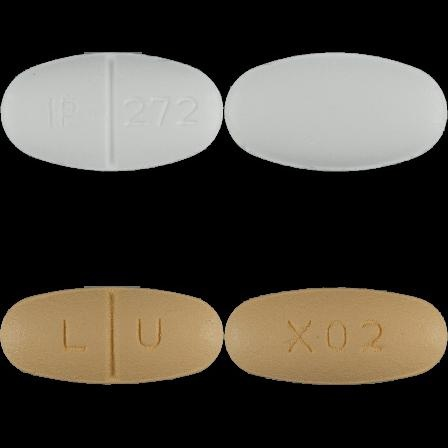43063-616: (0, 0, 224, 224)
